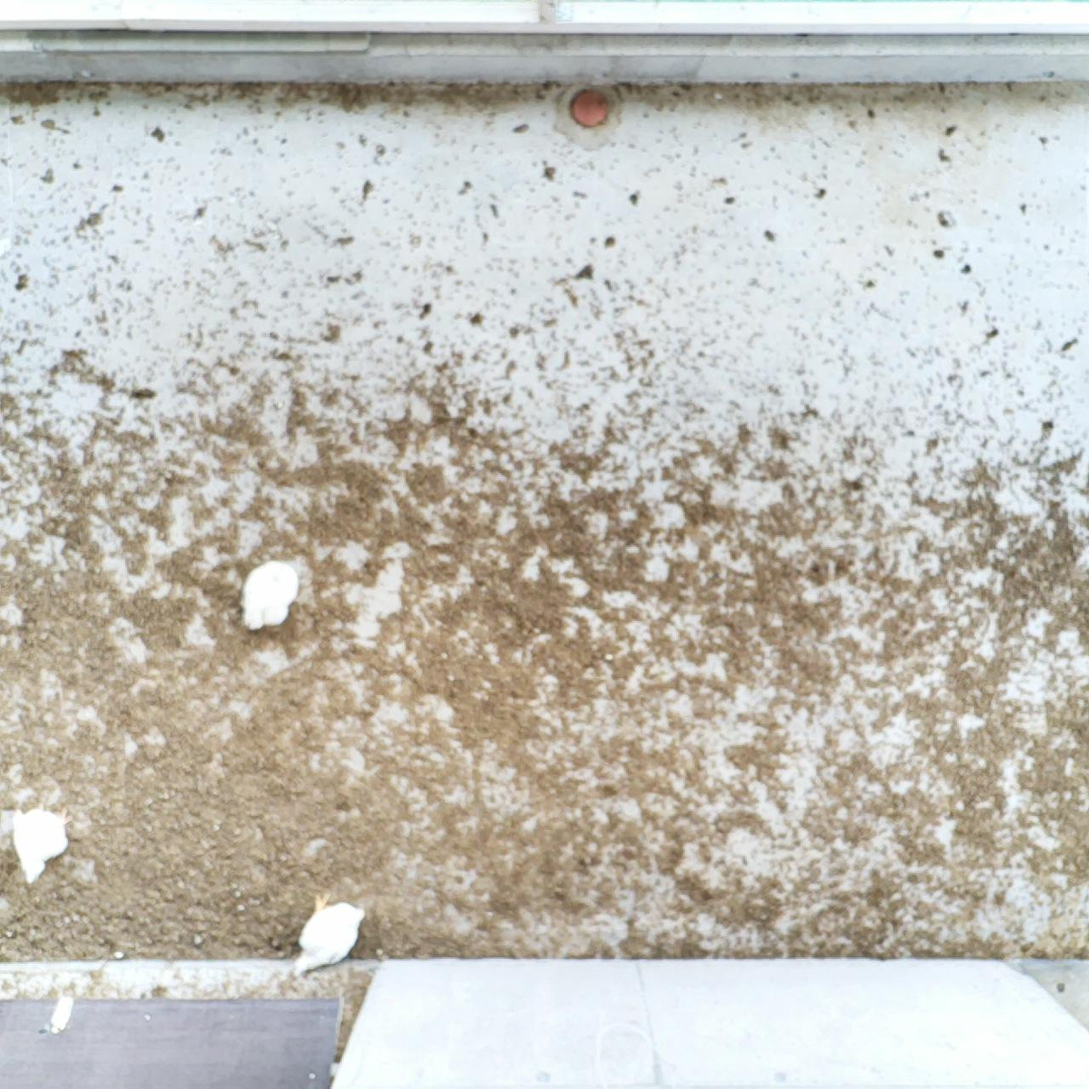chicken: (288, 891, 368, 980), (237, 555, 305, 634), (8, 801, 71, 884)
